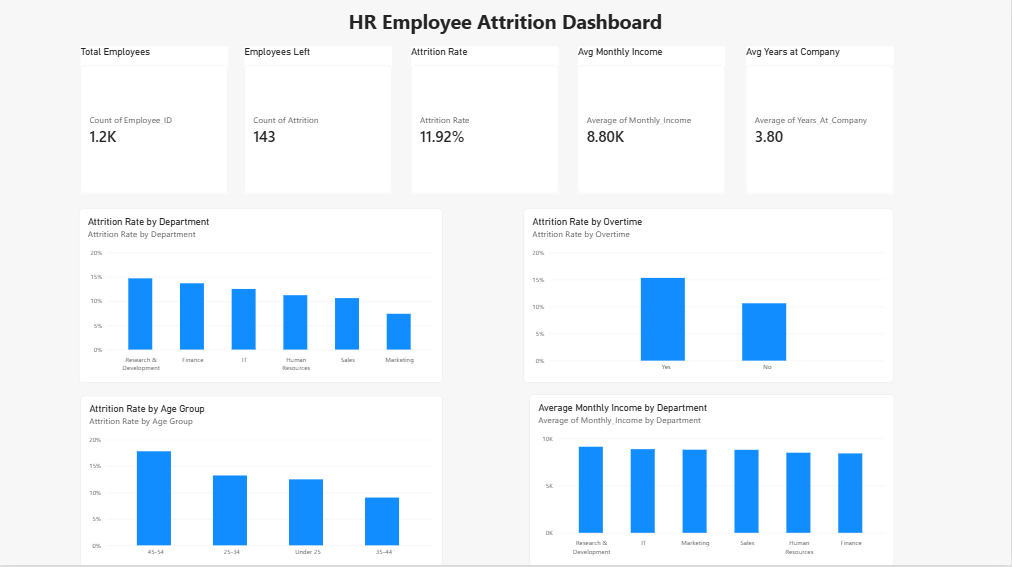

The page's visual inventory and layout, read from the dashboard file:
{"tool":"powerbi","page":{"name":"Page 1","canvas":[1920,1080],"ordinal":0},"visuals":[{"type":"cardVisual","title":"Total Employees","fields":{"Data":["CountNonNull(hr_employee_data.Employee_ID)"]},"box":[152.4,92.9,280,280],"z":0},{"type":"cardVisual","title":"Employees Left","fields":{"Data":["CountNonNull(hr_employee_data.Attrition)"]},"box":[464.3,92.9,280,280],"z":1},{"type":"cardVisual","title":"Attrition Rate","fields":{"Data":["hr_employee_data.Attrition Rate"]},"box":[781,92.9,280,280],"z":2},{"type":"cardVisual","title":"Avg Monthly Income","fields":{"Data":["Avg(hr_employee_data.Monthly_Income)"]},"box":[1097.6,92.9,280,280],"z":3},{"type":"cardVisual","title":"Avg Years at Company","fields":{"Data":["Avg(hr_employee_data.Years_At_Company)"]},"box":[1416.7,92.9,280,280],"z":4},{"type":"clusteredColumnChart","title":"Attrition Rate by Department","fields":{"Category":["hr_employee_data.Department"],"Y":["hr_employee_data.Attrition Rate"]},"box":[150,400,690.5,331],"z":5},{"type":"clusteredColumnChart","title":"Attrition Rate by Overtime","fields":{"Category":["hr_employee_data.Overtime"],"Y":["hr_employee_data.Attrition Rate"]},"box":[995.2,400,702.4,331],"z":6},{"type":"clusteredColumnChart","title":"Attrition Rate by Age Group","fields":{"Category":["hr_employee_data.Age Group"],"Y":["hr_employee_data.Attrition Rate"]},"box":[152.4,754.8,688.1,326.2],"z":7},{"type":"clusteredColumnChart","title":"Average Monthly Income by Department","fields":{"Category":["hr_employee_data.Department"],"Y":["Avg(hr_employee_data.Monthly_Income)"]},"box":[1004.8,752.4,692.9,326.2],"z":8},{"type":"textbox","box":[0,19,1919,73.8],"z":10}]}

Visuals, with their boxes in screenshot pixels (x1, y1, x2, y2), scaled from the page's 1920x1080 canvas onto the 1012x567 screenshot:
"Total Employees" cardVisual: (left=80, top=49, right=228, bottom=196)
"Employees Left" cardVisual: (left=245, top=49, right=392, bottom=196)
"Attrition Rate" cardVisual: (left=412, top=49, right=559, bottom=196)
"Avg Monthly Income" cardVisual: (left=579, top=49, right=726, bottom=196)
"Avg Years at Company" cardVisual: (left=747, top=49, right=894, bottom=196)
"Attrition Rate by Department" clusteredColumnChart: (left=79, top=210, right=443, bottom=384)
"Attrition Rate by Overtime" clusteredColumnChart: (left=525, top=210, right=895, bottom=384)
"Attrition Rate by Age Group" clusteredColumnChart: (left=80, top=396, right=443, bottom=566)
"Average Monthly Income by Department" clusteredColumnChart: (left=530, top=395, right=895, bottom=566)
textbox: (left=0, top=10, right=1011, bottom=49)
